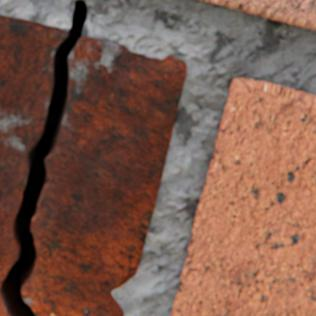brick: (170, 78, 315, 315), (198, 0, 315, 30)
broken_brick: (22, 36, 185, 315), (0, 15, 67, 286), (0, 292, 8, 315)
crack: (0, 0, 87, 315), (125, 48, 134, 56), (106, 289, 114, 296)
